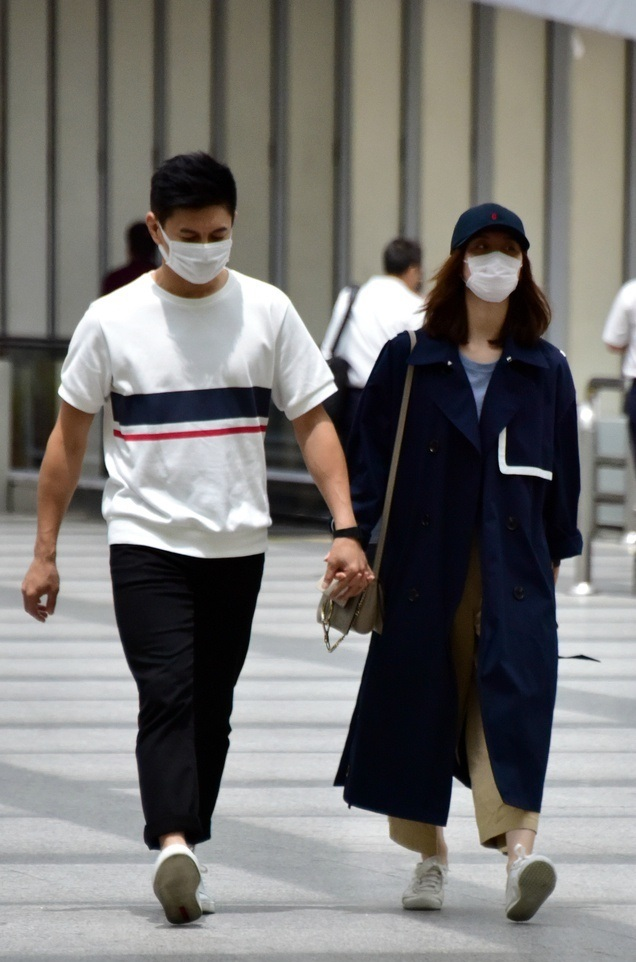face_mask: (164, 196, 232, 282), (466, 225, 519, 305)
